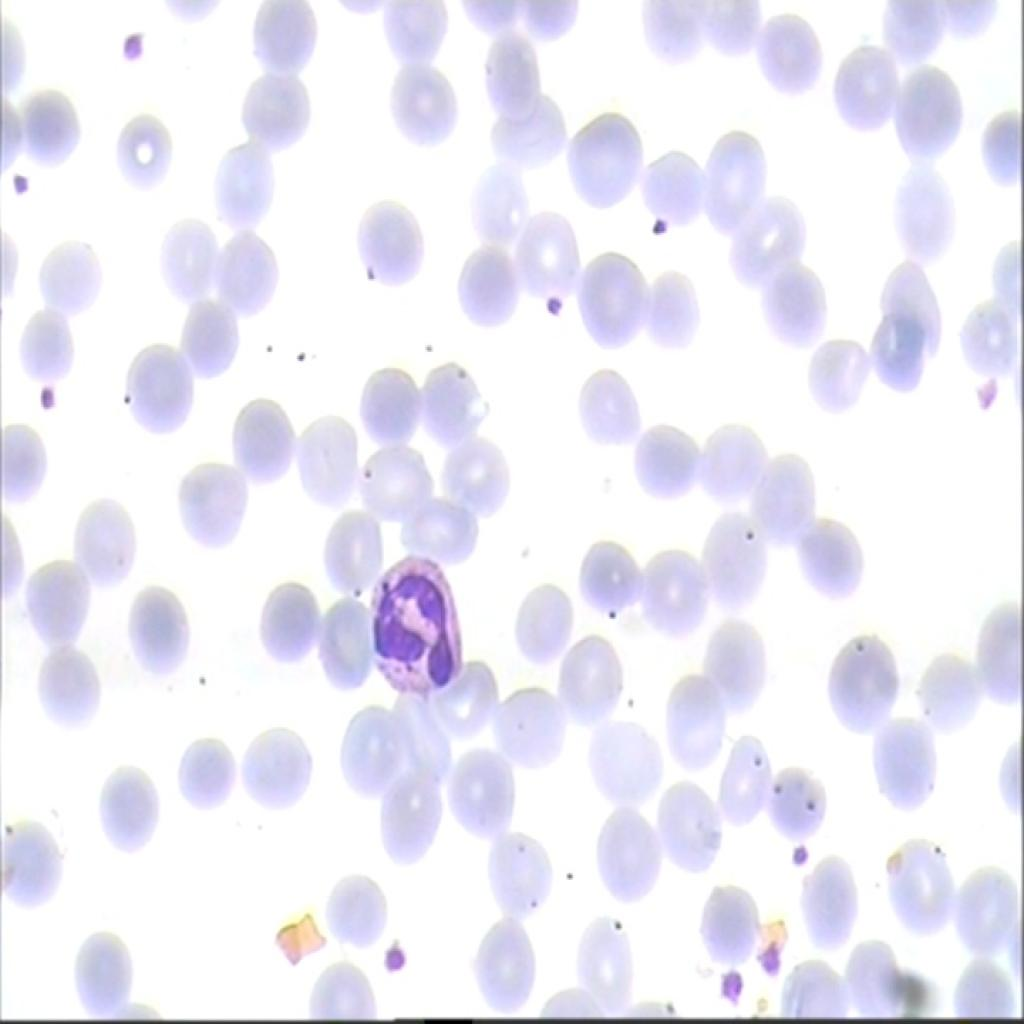Neutrofil: (368, 542, 472, 706)
Platelet: (528, 268, 566, 329), (112, 20, 148, 68), (707, 958, 745, 1003), (36, 368, 68, 416), (758, 932, 782, 992), (381, 934, 407, 974), (643, 206, 677, 236), (7, 158, 30, 198), (786, 836, 810, 862)
